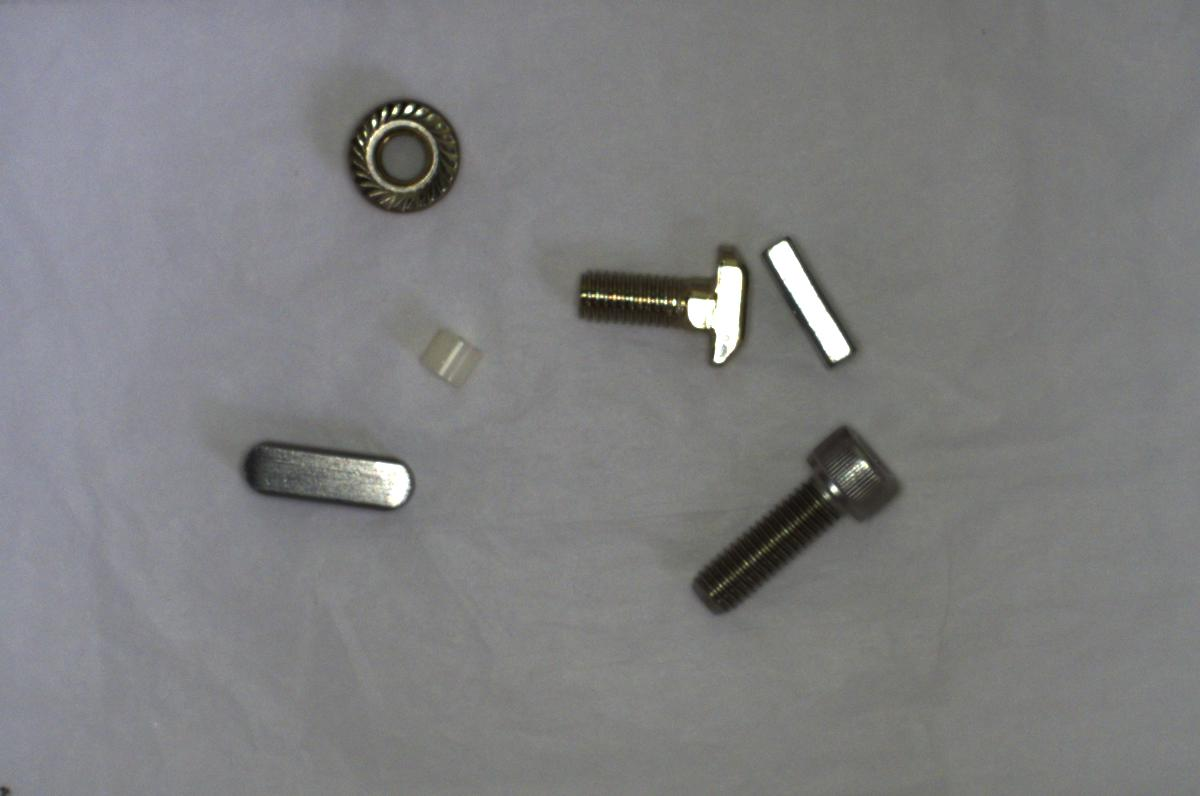Flange nut: (338, 92, 466, 216)
Hexagon screw: (673, 420, 915, 615)
Keybar: (235, 436, 418, 508)
Plastic cushion pillar: (413, 322, 487, 392)
Rectangular nut: (764, 233, 858, 366)
T-shaped screw: (572, 236, 752, 376)
